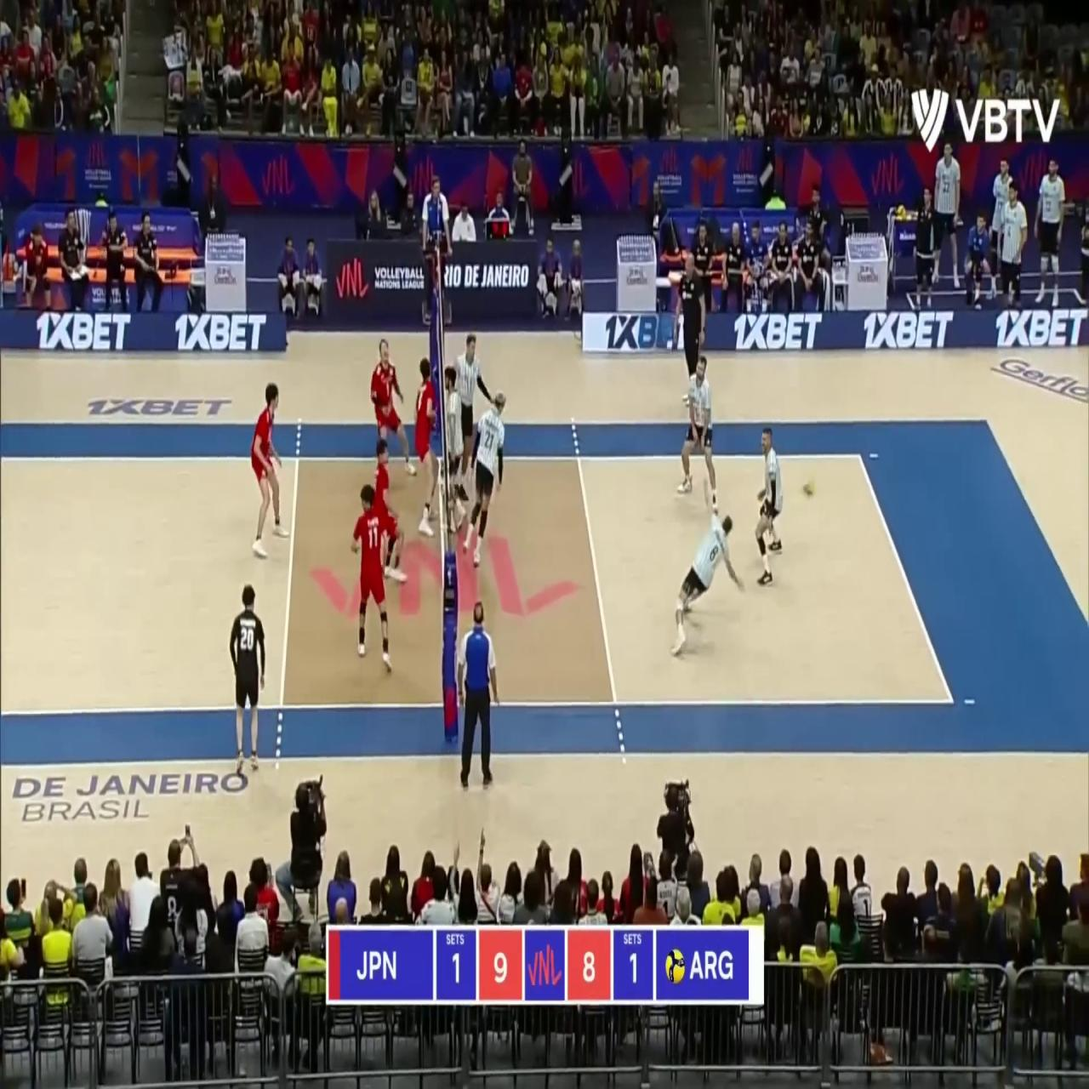ball: (802, 477, 814, 499)
